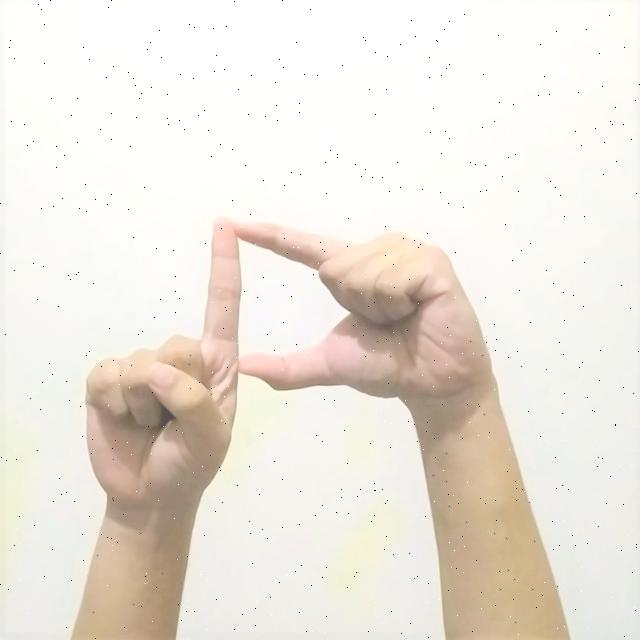D: (75, 209, 503, 517)
